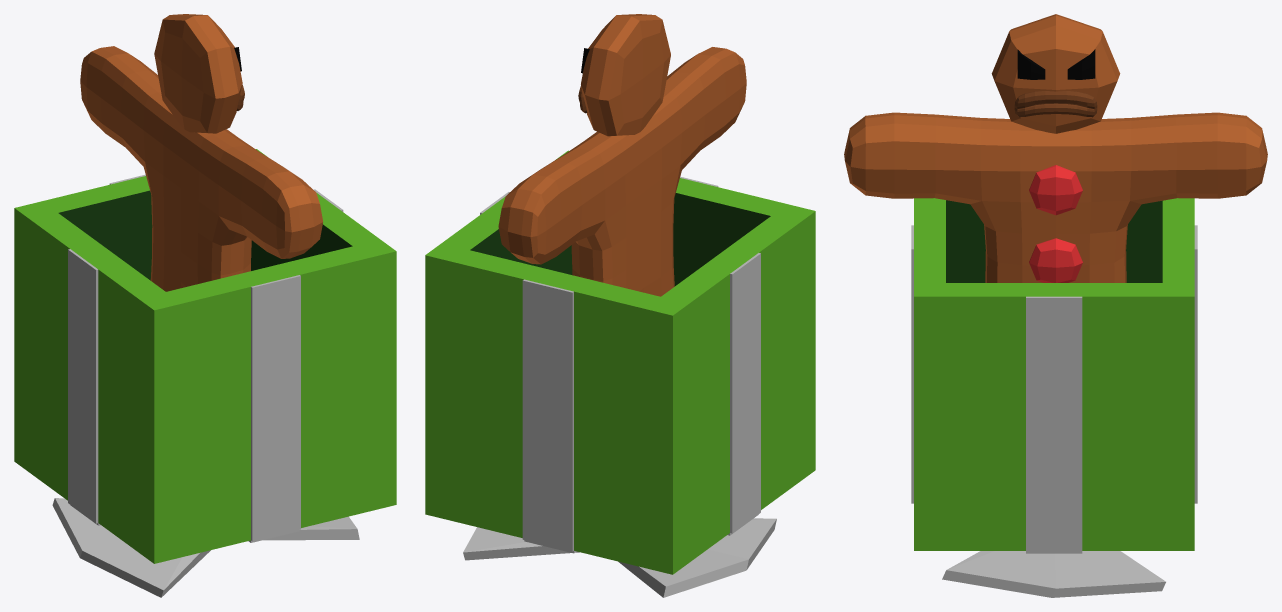
The model's file is PendejoDeGalleta.fbx.
3 views of the same model, side by side, from view 1: azimuth 30°, elevation 25°; view 2: azimuth 150°, elevation 25°; view 3: azimuth 270°, elevation 25° (orthographic). The views are drawn at different scales.
Parts seen in each view (by area): view 1: Cube, Cube.002, Cube.003; view 2: Cube, Cube.002, Cube.003; view 3: Cube, Cube.002, Cube.003, Cube.007, Cube.008, Cube.006, Cube.004, Cube.005.
Part boxes in pixels (x1=…): Cube: x1=14, y1=149, x2=396, y2=597; Cube.002: x1=80, y1=46, x2=322, y2=291; Cube.003: x1=154, y1=14, x2=242, y2=133; Cube: x1=425, y1=150, x2=815, y2=597; Cube.002: x1=498, y1=47, x2=746, y2=296; Cube.003: x1=581, y1=14, x2=670, y2=136; Cube: x1=911, y1=198, x2=1197, y2=597; Cube.002: x1=844, y1=112, x2=1267, y2=282; Cube.003: x1=991, y1=14, x2=1120, y2=133; Cube.007: x1=1029, y1=165, x2=1082, y2=215; Cube.008: x1=1029, y1=238, x2=1082, y2=282; Cube.006: x1=1014, y1=91, x2=1097, y2=117; Cube.004: x1=1067, y1=49, x2=1095, y2=79; Cube.005: x1=1017, y1=49, x2=1045, y2=79.
Bounding box in the file's own units: 10.26 × 20.55 × 15.11.
